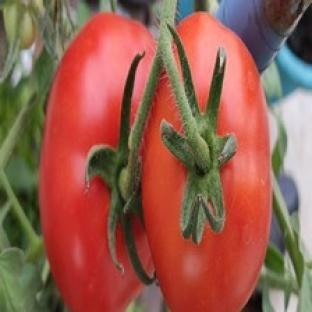Tomato: (143, 13, 271, 311), (39, 14, 154, 311)
